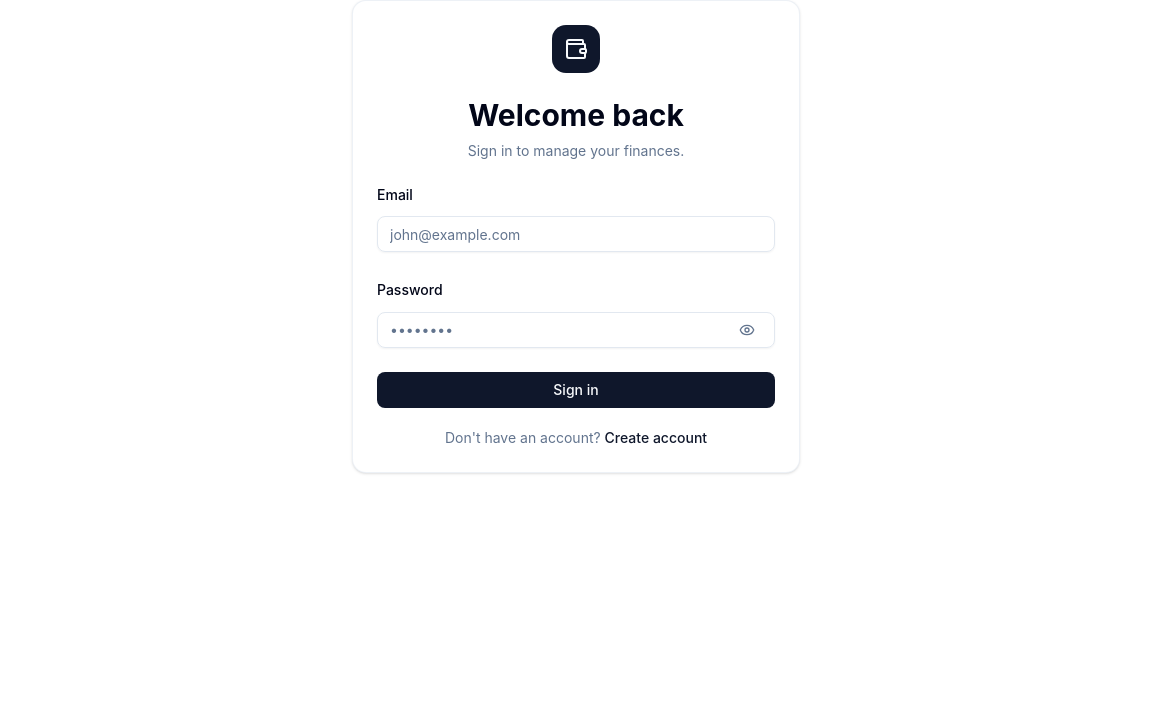
Test: LoginForm › shows login error
Type "wrong@test.com" into the field labelled "Email" at [576, 234], box [377, 216, 775, 252]
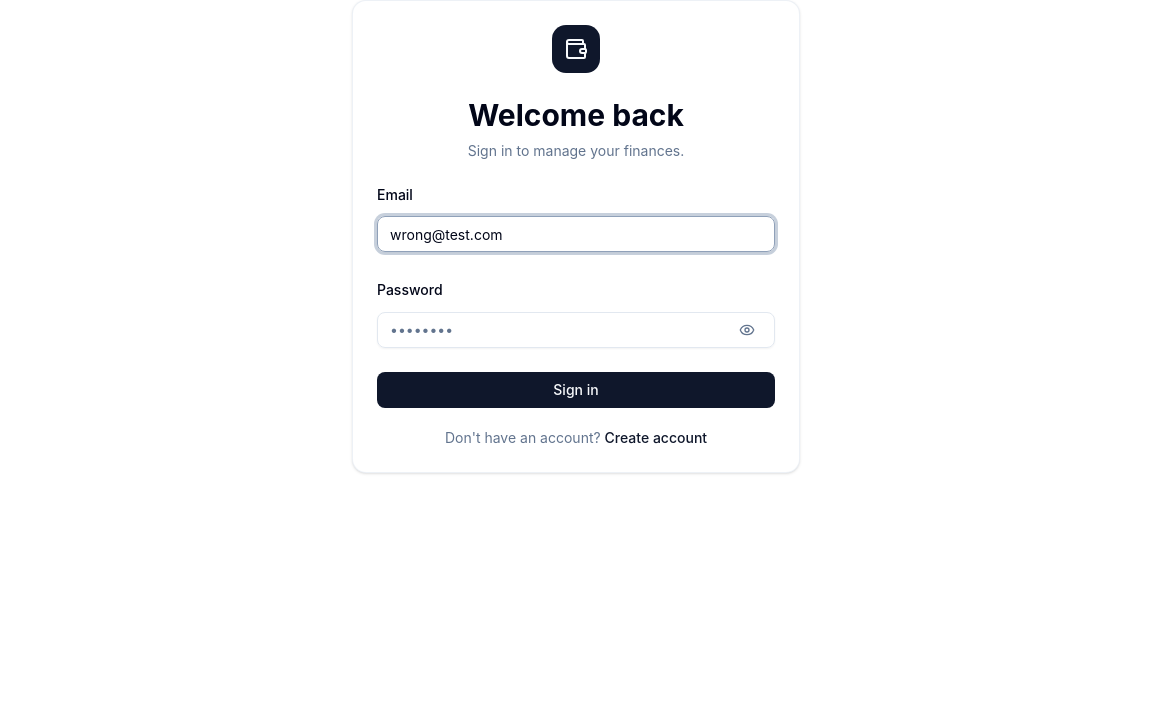
Type "wrong-password" into the password field labelled "Password" at [576, 330], box [377, 312, 775, 348]
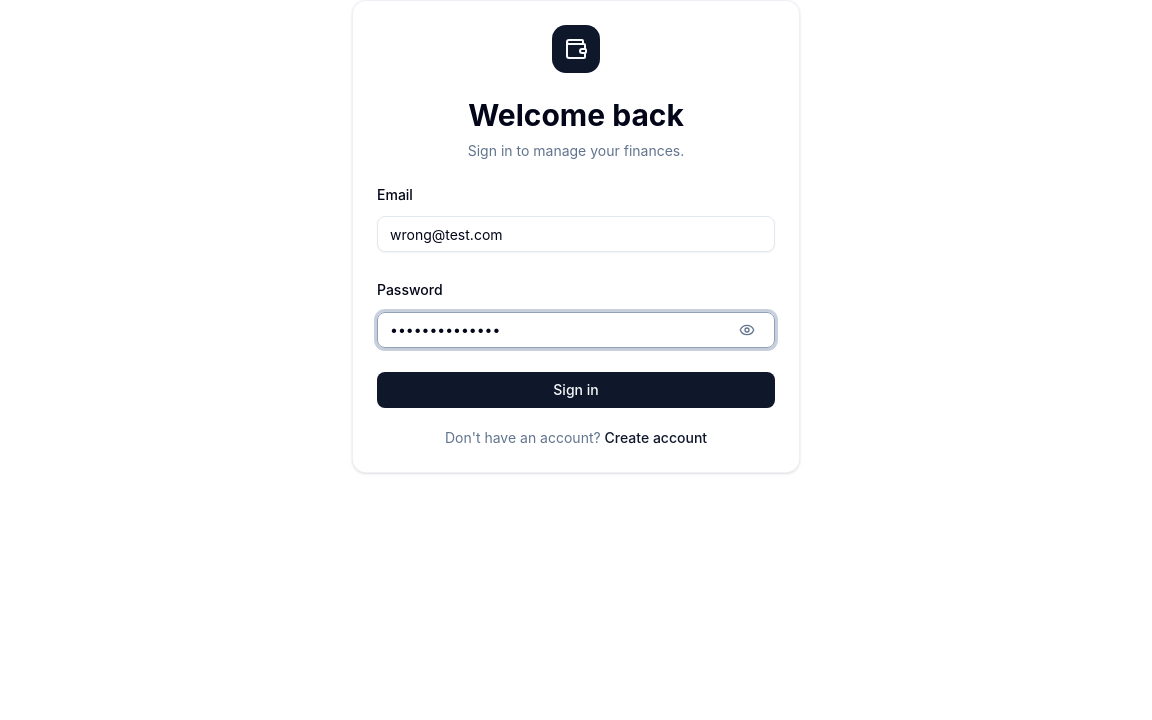
Click the button "Sign in" at [576, 390], box [377, 372, 775, 408]
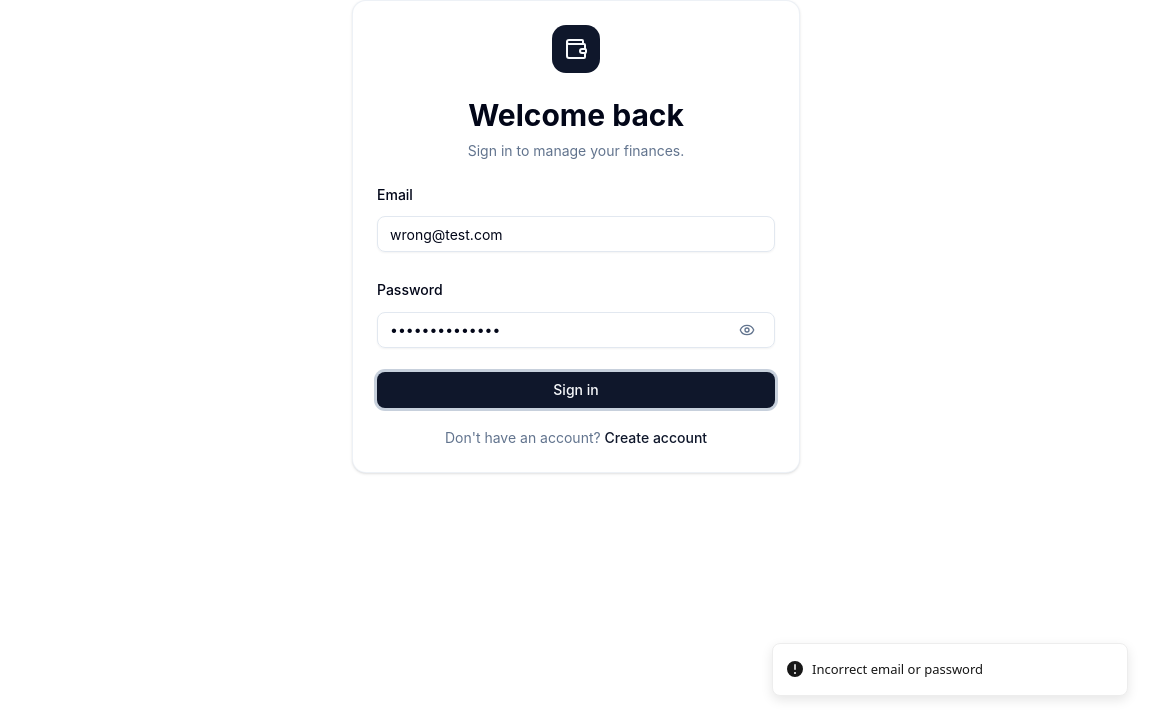
Expected: the text "Incorrect email or password" is shown, [812, 660, 983, 679]
